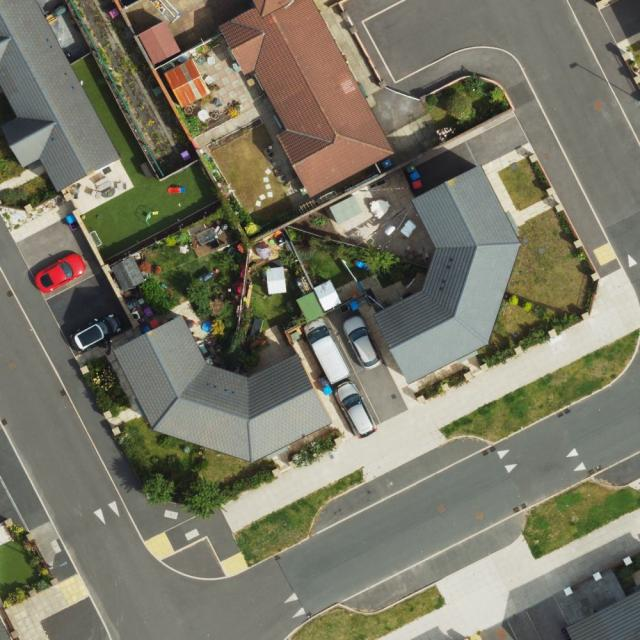roof: (216, 0, 393, 195), (370, 161, 521, 383), (113, 313, 328, 463), (0, 0, 119, 191), (560, 588, 640, 640)
